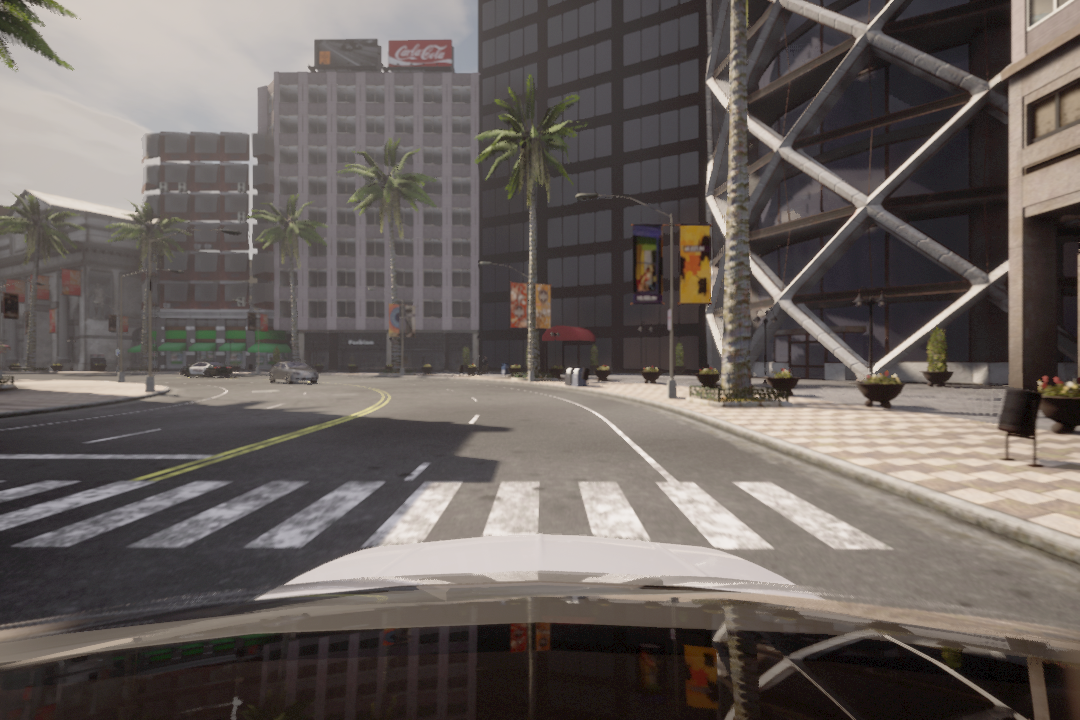walkside: (7, 476, 889, 561)
